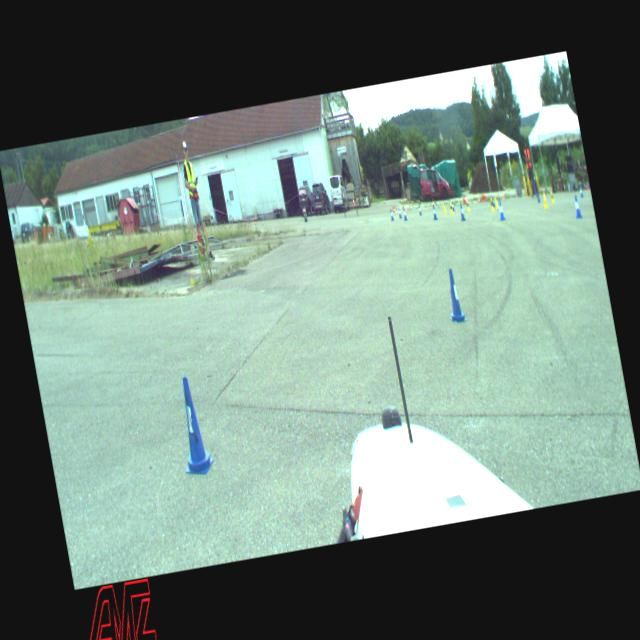blue_cone: (169, 374, 215, 477), (442, 268, 467, 324), (572, 194, 582, 219), (496, 200, 506, 222), (458, 202, 466, 221), (400, 205, 408, 221), (431, 203, 438, 220), (578, 185, 584, 198), (388, 208, 394, 220), (417, 204, 422, 216), (397, 207, 402, 218), (492, 196, 496, 207), (450, 200, 454, 211)
orange_cone: (432, 198, 436, 208), (392, 205, 396, 212), (406, 202, 409, 211), (478, 196, 482, 202), (464, 194, 466, 203)
yellow_cone: (540, 190, 548, 209), (488, 196, 495, 212), (448, 202, 454, 214), (441, 202, 447, 214), (493, 196, 498, 208), (550, 190, 554, 203), (466, 199, 470, 211)
